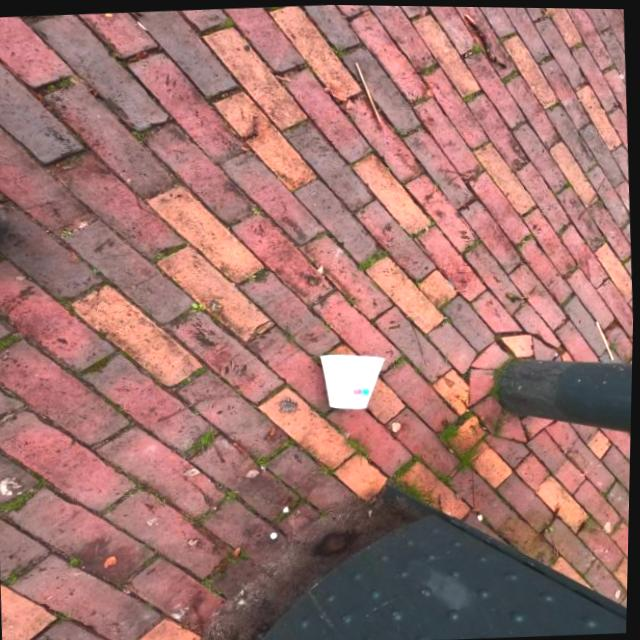Cup: (319, 349, 391, 410)
